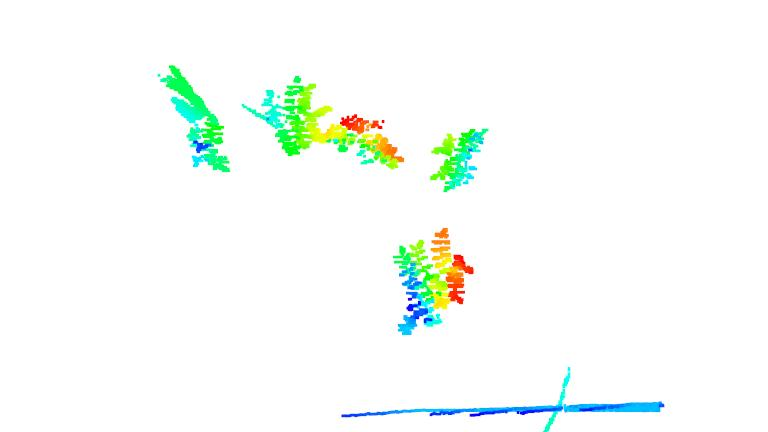chickpea: (391, 229, 474, 333), (156, 61, 233, 172), (259, 73, 330, 158), (326, 113, 406, 169), (426, 125, 490, 193)
